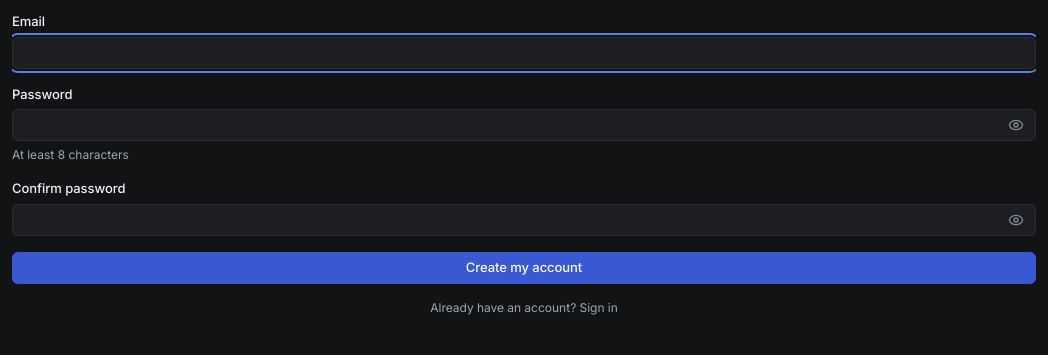
Scenario: <SignupForm> — breached-password guard (A-4) › states the refusal in English when the UI is English
In the field labelled "Email": {"x": 524, "y": 53} [12,37,1036,69], type "new@example.com"
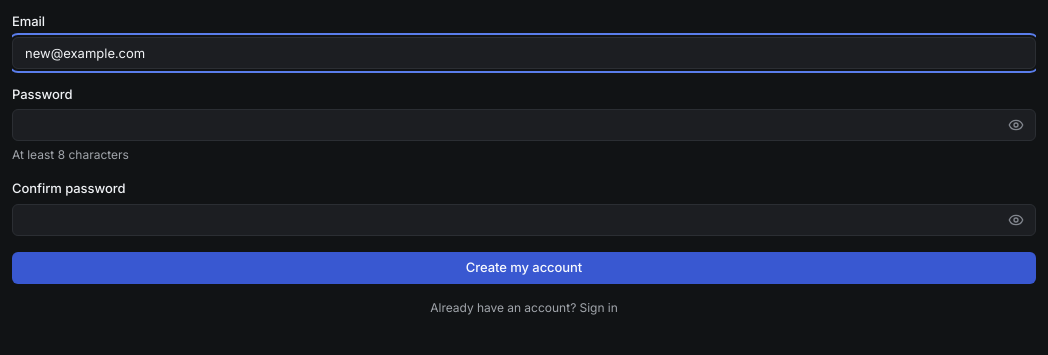
In the password field labelled "Password": {"x": 524, "y": 125} [12,109,1036,141], type "hunter2secret"
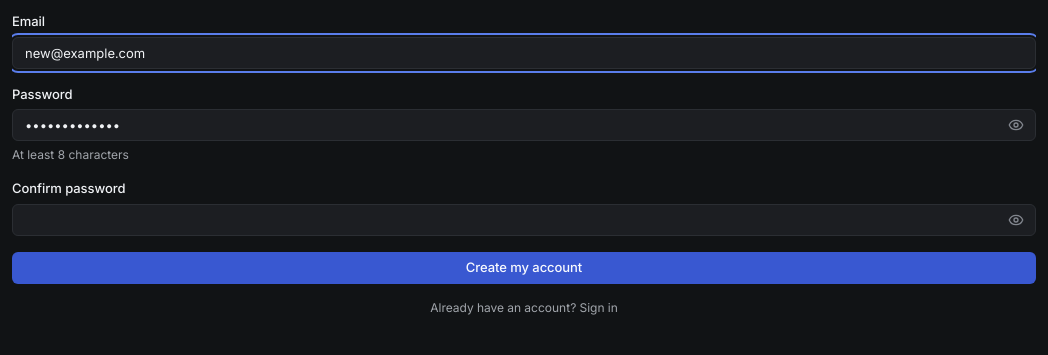
In the password field labelled "Confirm password": {"x": 524, "y": 220} [12,204,1036,236], type "hunter2secret"
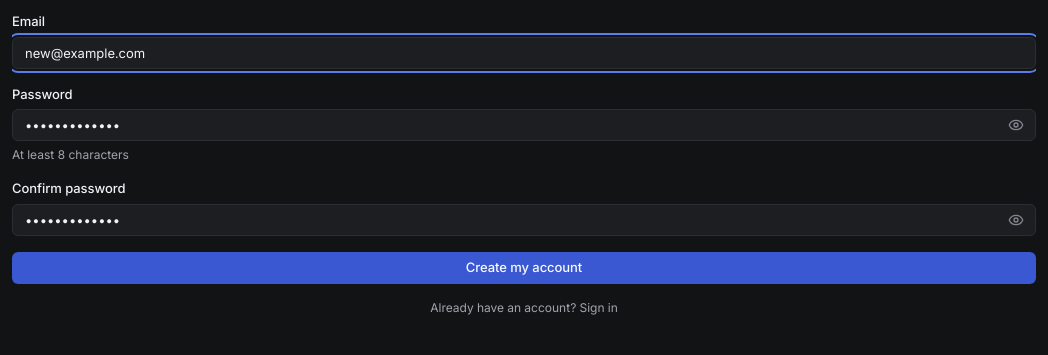
Click the button "Create my account": {"x": 524, "y": 268} [12,252,1036,284]
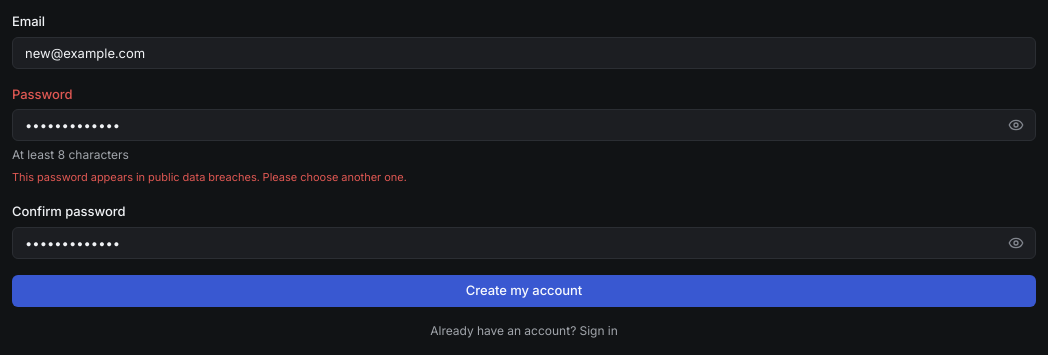
expect the text "This password appears in public data breaches. Please choose another one." is shown: met, box [12,170,407,184]
